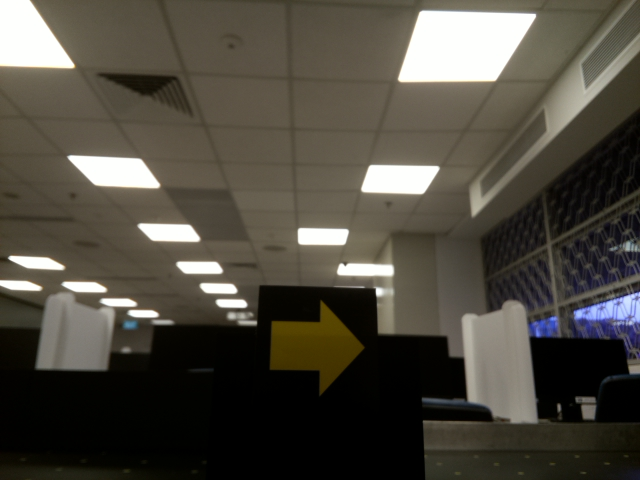right: (260, 292, 369, 399)
